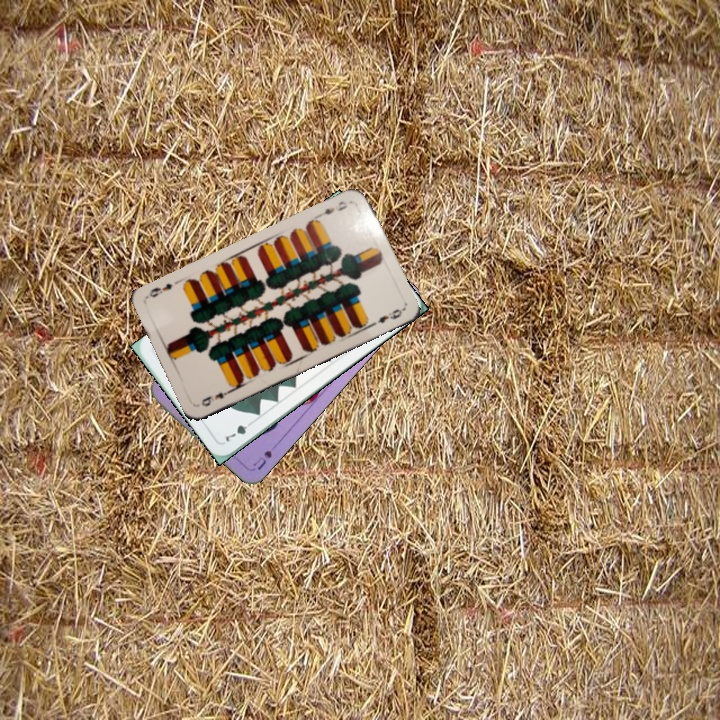E9: (197, 385, 234, 409), (315, 197, 350, 219)
G7: (221, 416, 255, 445)
SU: (249, 446, 274, 473)
